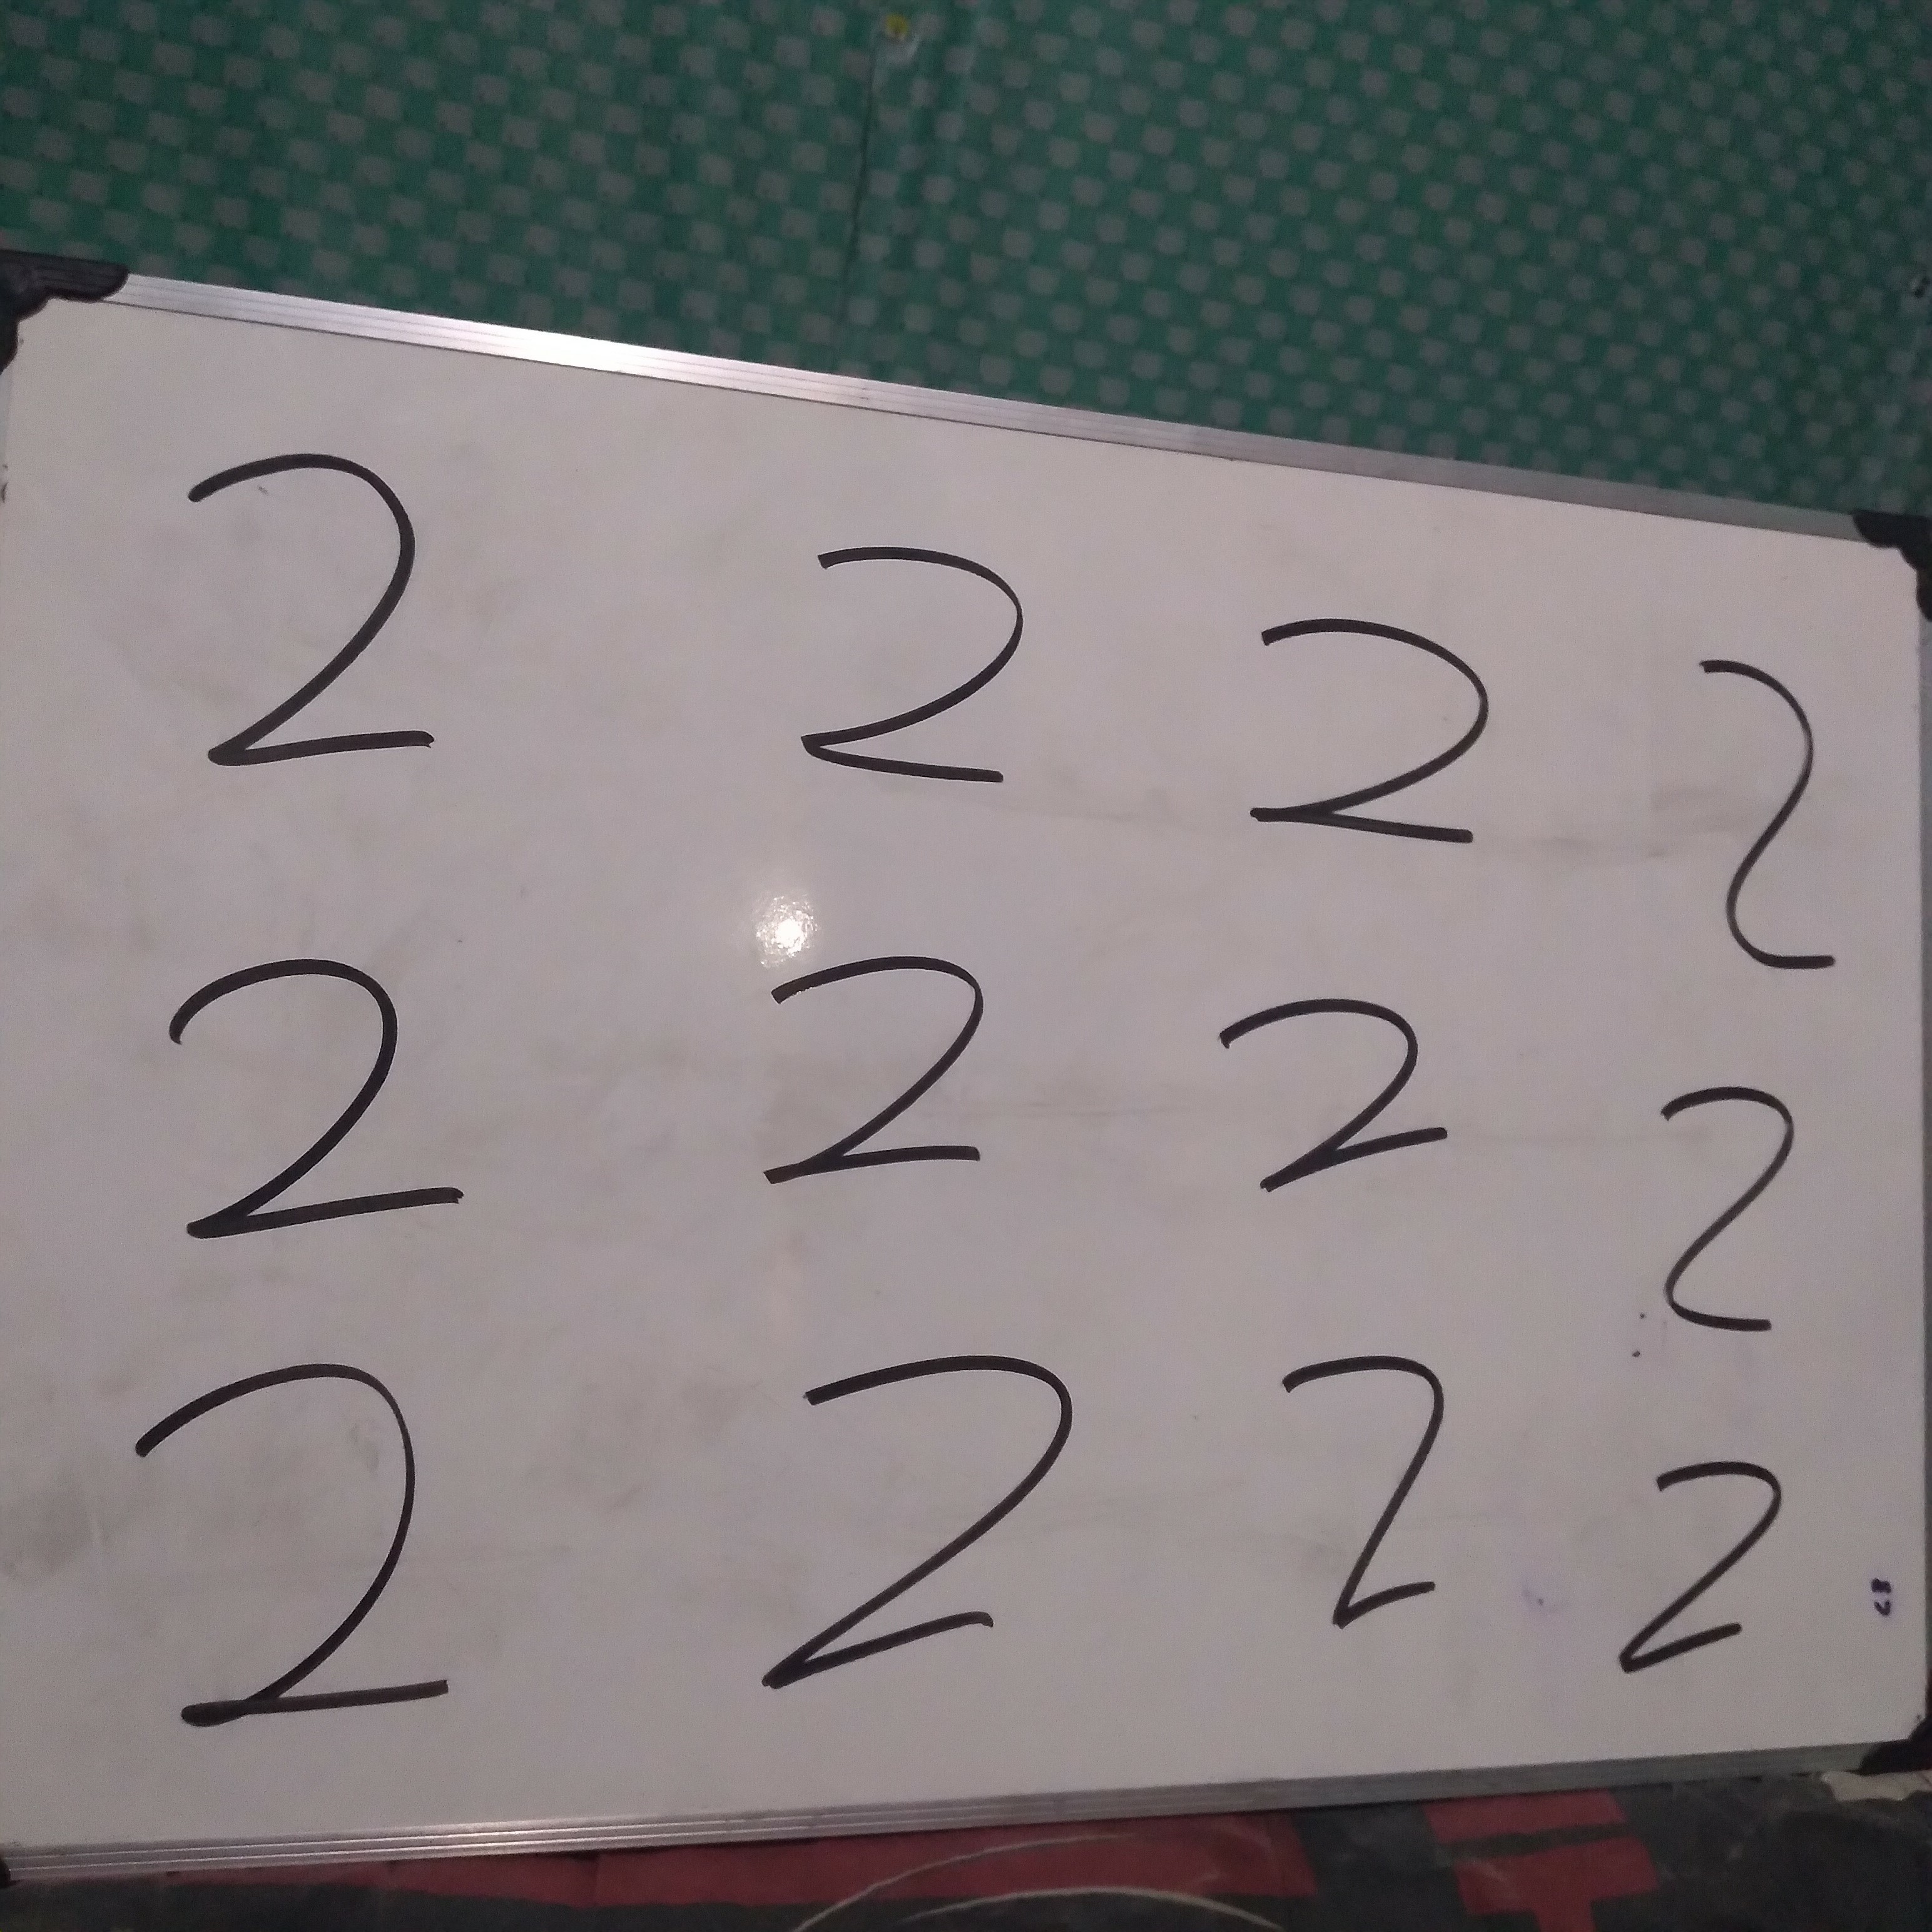num2: (732, 1322, 1088, 1741), (1603, 629, 1912, 1047), (163, 419, 472, 836), (154, 892, 463, 1309), (126, 1322, 435, 1740), (724, 861, 1034, 1279), (748, 444, 1057, 862), (1199, 1288, 1508, 1706), (1565, 1064, 1843, 1358), (1201, 945, 1479, 1240), (1231, 599, 1510, 893), (1548, 1428, 1826, 1722)
